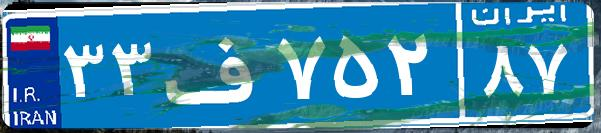2: (385, 28, 445, 110)
3: (57, 26, 110, 107), (110, 28, 158, 105)
5: (330, 28, 385, 110)
7: (273, 28, 330, 110), (525, 38, 570, 115)
8: (475, 38, 525, 113)
ف: (158, 15, 273, 115)
